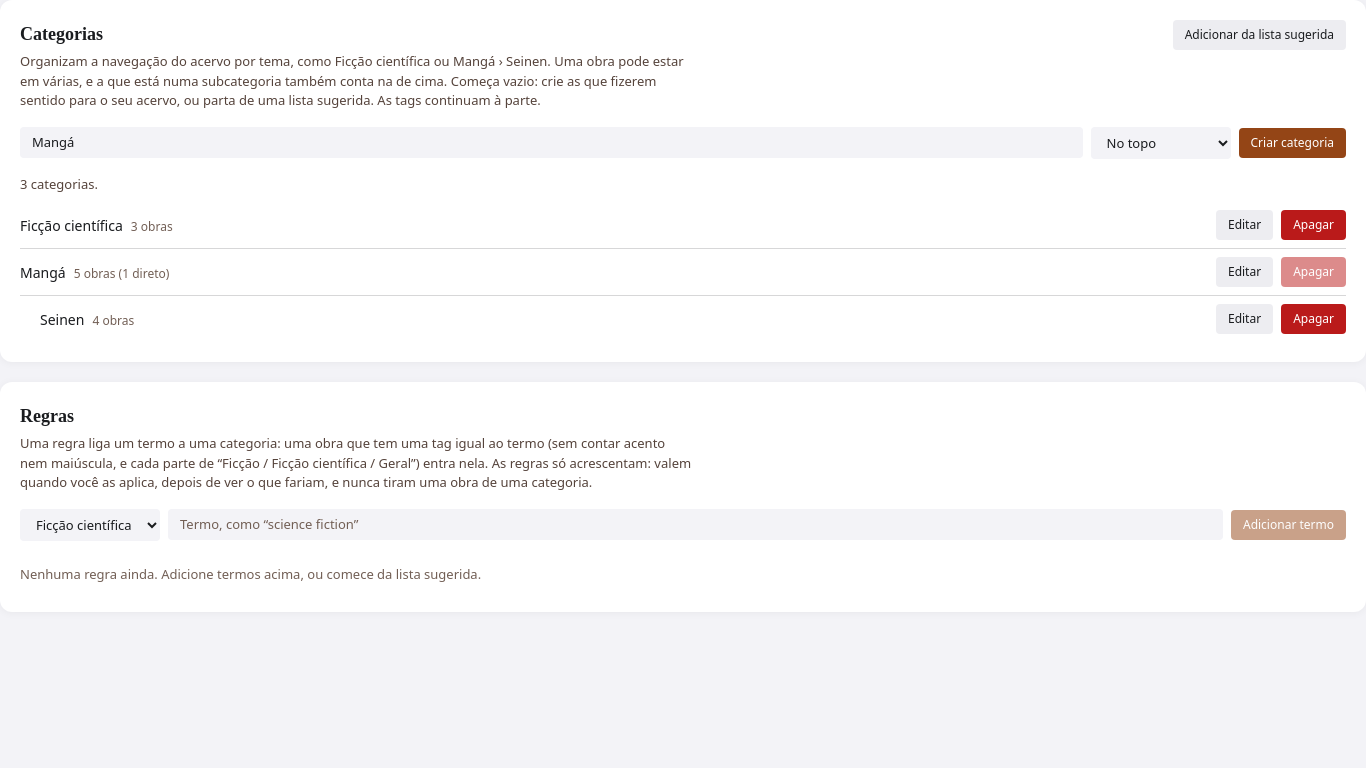
Test case: CategoriesTab › says what the server refused, in Portuguese, and keeps the name typed
The image size is (1366, 768).
Click the button "Criar categoria" at (1292, 142), box [1238, 128, 1346, 158]
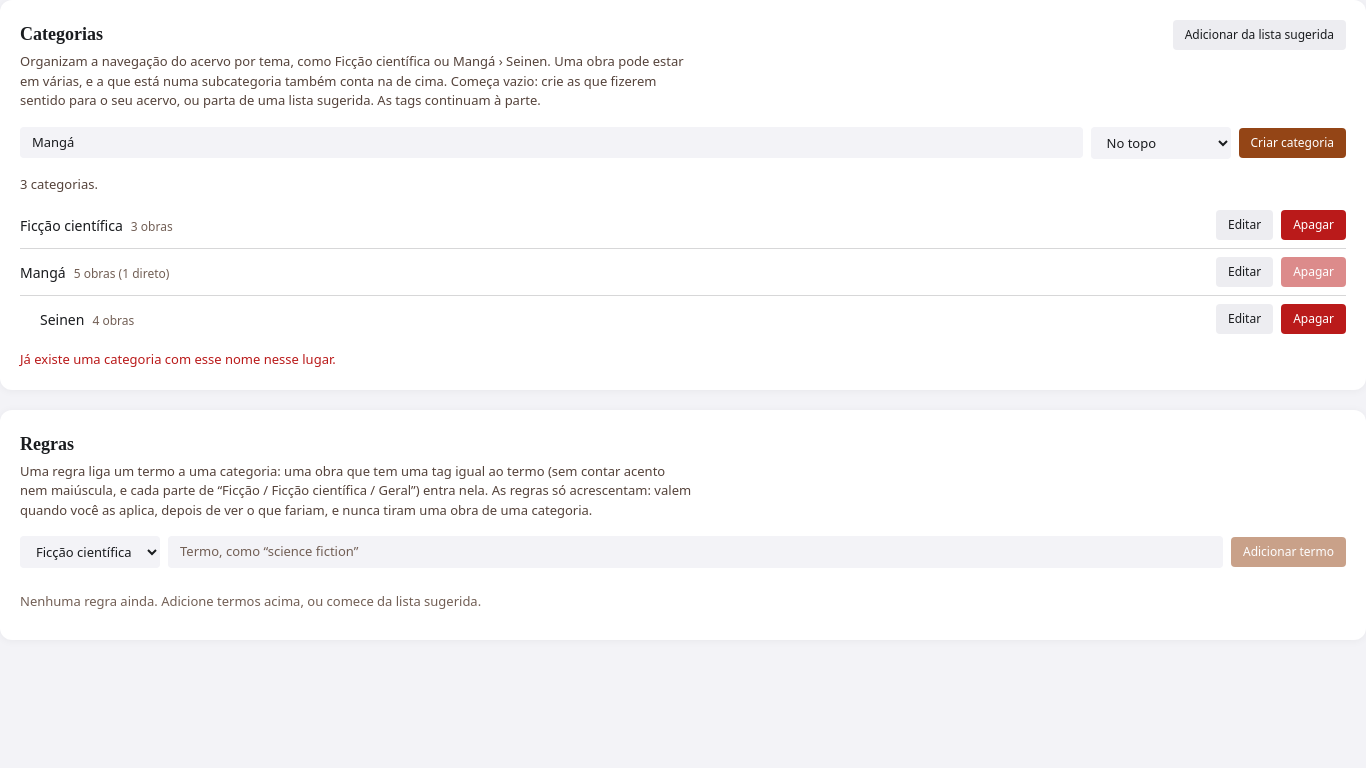
Now the message "Já existe uma categoria com esse nome nesse lugar." is shown, box [20, 350, 336, 368]
